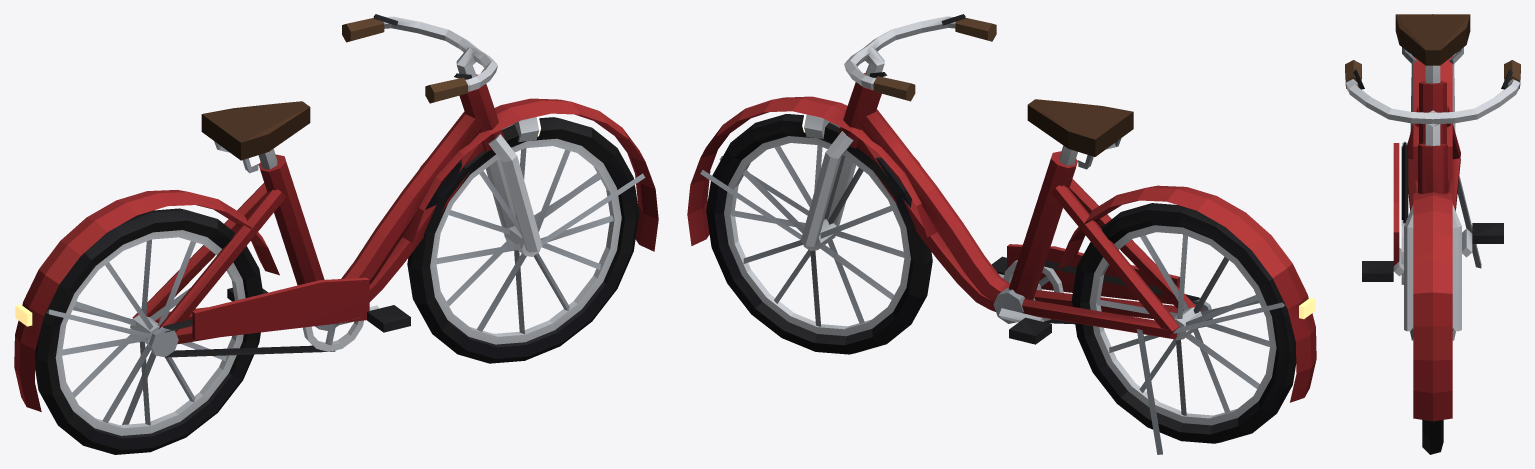
File: mt_bicycle_red.glb
3 renders of one model, left to right at view 1: azimuth 30°, elevation 25°; view 2: azimuth 150°, elevation 25°; view 3: azimuth 270°, elevation 25°, orthographic. The views are drawn at different scales.
Visible parts, largest first — view 1: base, wheelF_m, wheelR_m, bars_m, crank_m; view 2: base, wheelR_m, wheelF_m, bars_m, crank_m; view 3: base, bars_m, crank_m, wheelF_m.
Boxes of the visible parts, bbox=[...] form: base: bbox=[14, 74, 658, 424]; wheelF_m: bbox=[407, 117, 639, 363]; wheelR_m: bbox=[35, 208, 263, 454]; bars_m: bbox=[342, 14, 497, 103]; crank_m: bbox=[227, 287, 410, 351]; base: bbox=[687, 73, 1316, 454]; wheelR_m: bbox=[1071, 203, 1296, 443]; wheelF_m: bbox=[706, 114, 932, 354]; bars_m: bbox=[844, 14, 996, 101]; crank_m: bbox=[991, 256, 1063, 344]; base: bbox=[1393, 14, 1481, 421]; bars_m: bbox=[1345, 60, 1520, 145]; crank_m: bbox=[1362, 220, 1503, 284]; wheelF_m: bbox=[1422, 420, 1443, 454].
Bounding box in the file's own units: 0.745 × 0.3844 × 0.1882.
